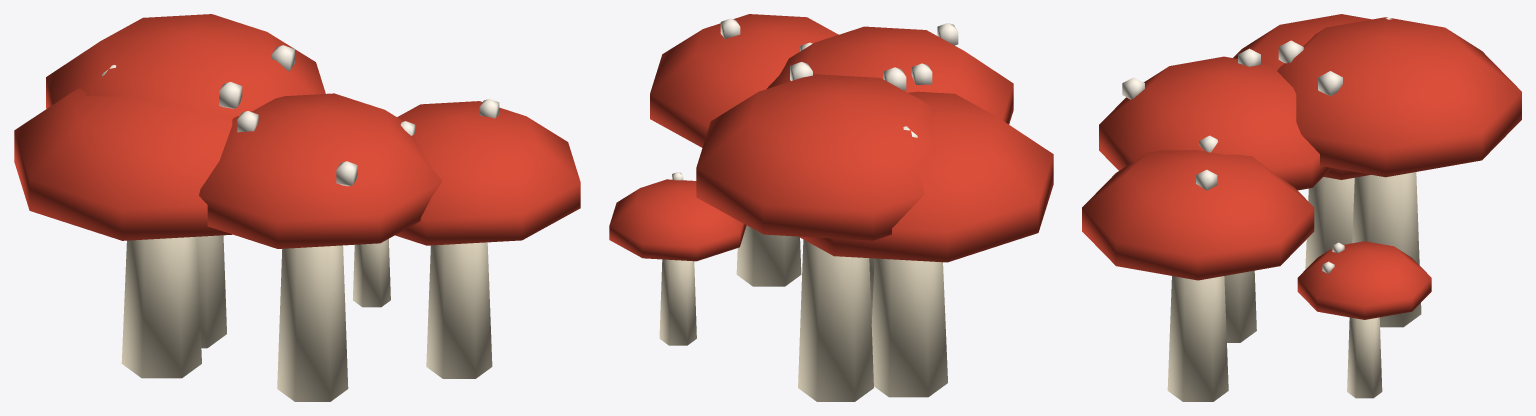
File: Mushrooms.fbx
3 views of the same model, side by side, from view 1: azimuth 30°, elevation 25°; view 2: azimuth 150°, elevation 25°; view 3: azimuth 270°, elevation 25° (orthographic). The views are drawn at different scales.
Visible parts, largest first — view 1: Mushrooms.001; view 2: Mushrooms.001; view 3: Mushrooms.001.
Boxes of the visible parts, box(x1,y1,x2,y2) form: Mushrooms.001: box(14, 14, 580, 401); Mushrooms.001: box(609, 14, 1053, 401); Mushrooms.001: box(1082, 14, 1521, 401).
Size of the model in its own units: 0.2865 by 0.1775 by 0.256.
